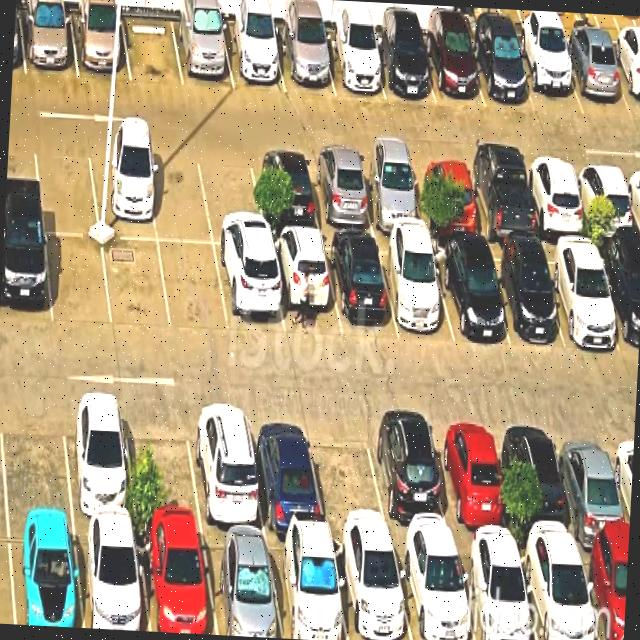empty: (307, 413, 390, 538), (124, 400, 202, 529), (0, 394, 72, 519), (197, 149, 267, 247), (146, 146, 213, 242), (103, 238, 171, 332), (159, 242, 229, 333), (33, 139, 99, 235), (46, 234, 112, 326), (122, 15, 184, 86)
occupied: (365, 416, 454, 541), (430, 417, 512, 545), (186, 404, 265, 532), (247, 408, 326, 532), (61, 395, 136, 524), (502, 419, 578, 545), (554, 422, 630, 547), (200, 531, 283, 639), (136, 528, 217, 635), (267, 535, 348, 640), (541, 244, 622, 348), (332, 537, 412, 640), (75, 523, 150, 632), (430, 245, 510, 346), (483, 246, 564, 345), (393, 543, 475, 640), (377, 240, 454, 343), (9, 521, 83, 628), (456, 543, 537, 640), (517, 545, 599, 640), (324, 237, 399, 336), (269, 235, 341, 337), (88, 143, 157, 240), (215, 247, 285, 336), (464, 160, 538, 242), (250, 152, 321, 232), (558, 41, 632, 117), (411, 158, 481, 237), (306, 153, 375, 232), (356, 155, 426, 232), (513, 40, 584, 115), (572, 162, 639, 241), (522, 161, 589, 239), (0, 227, 52, 325), (469, 34, 535, 111), (595, 245, 640, 355), (578, 545, 629, 640), (421, 32, 485, 107), (370, 34, 436, 104), (221, 22, 286, 92), (172, 18, 234, 90), (321, 31, 385, 99), (70, 12, 131, 81), (20, 10, 78, 78), (275, 29, 335, 94), (608, 45, 640, 117)
